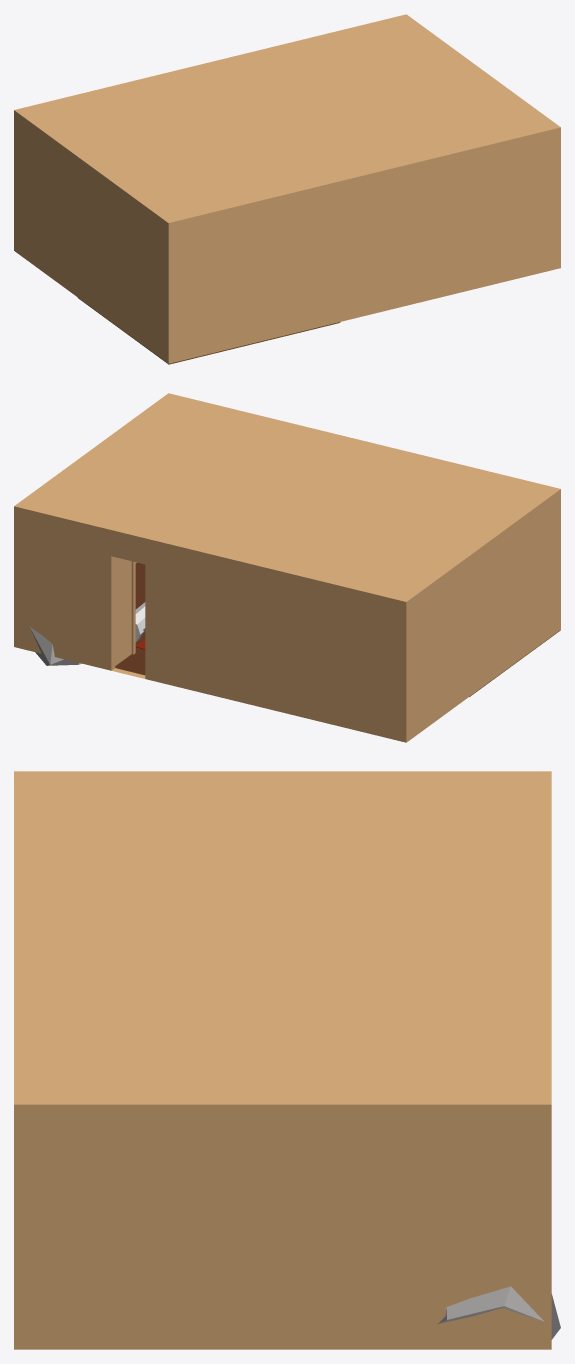
File: S_Labo.glb
The picture shows the model from 3 angles, top to bottom: view 1: azimuth 30°, elevation 25°; view 2: azimuth 150°, elevation 25°; view 3: azimuth 270°, elevation 25°; orthographic projection. The views are drawn at different scales.
Parts seen in each view (by area): view 1: murSansFenetre.002, plafond.002; view 2: murSansFenetre.002, plafond.002, Plane.010, Plane.075, Cube.037, Plane.016; view 3: plafond.002, murSansFenetre.002, Cube.037.
Part boxes in pixels (x1=…): murSansFenetre.002: x1=14, y1=14, x2=560, y2=363; plafond.002: x1=24, y1=17, x2=550, y2=218; murSansFenetre.002: x1=14, y1=393, x2=560, y2=742; plafond.002: x1=24, y1=397, x2=550, y2=597; Plane.010: x1=110, y1=511, x2=133, y2=665; Plane.075: x1=115, y1=562, x2=145, y2=675; Cube.037: x1=29, y1=626, x2=81, y2=665; Plane.016: x1=131, y1=512, x2=170, y2=654; plafond.002: x1=27, y1=776, x2=538, y2=1104; murSansFenetre.002: x1=14, y1=771, x2=551, y2=1349; Cube.037: x1=438, y1=1286, x2=560, y2=1339.
Size of the model in its own units: 7.85 by 2.91 by 5.36.
